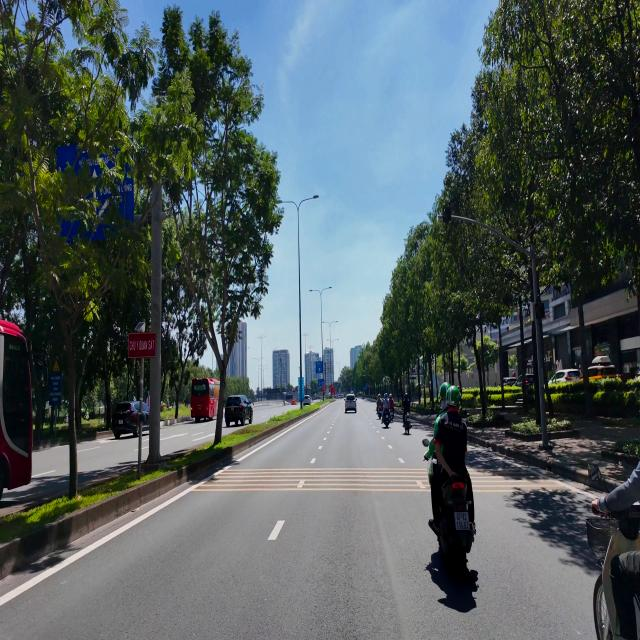car: (112, 401, 140, 438), (225, 395, 252, 426), (345, 394, 356, 413), (303, 395, 311, 405)
motorcycle: (587, 507, 639, 639), (438, 475, 475, 578), (403, 412, 411, 434), (382, 409, 390, 428), (377, 405, 382, 419)
